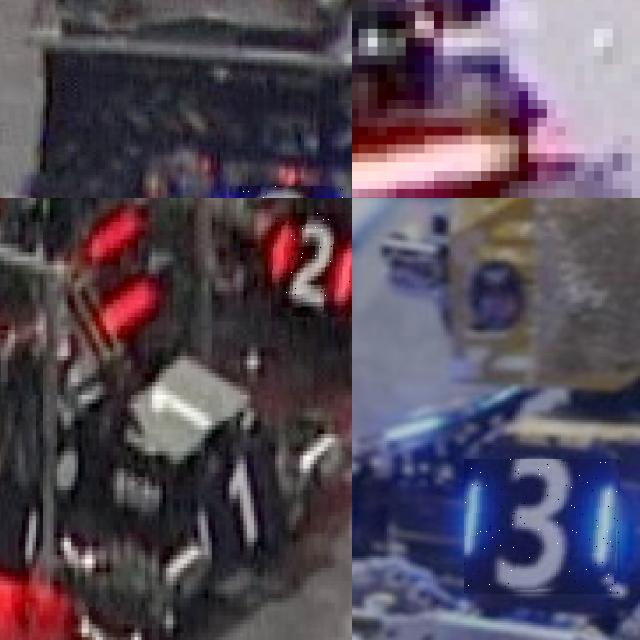B3: (464, 460, 620, 596)
R2: (271, 213, 352, 317)
